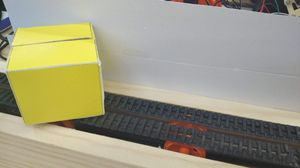box4: (4, 20, 106, 126)
